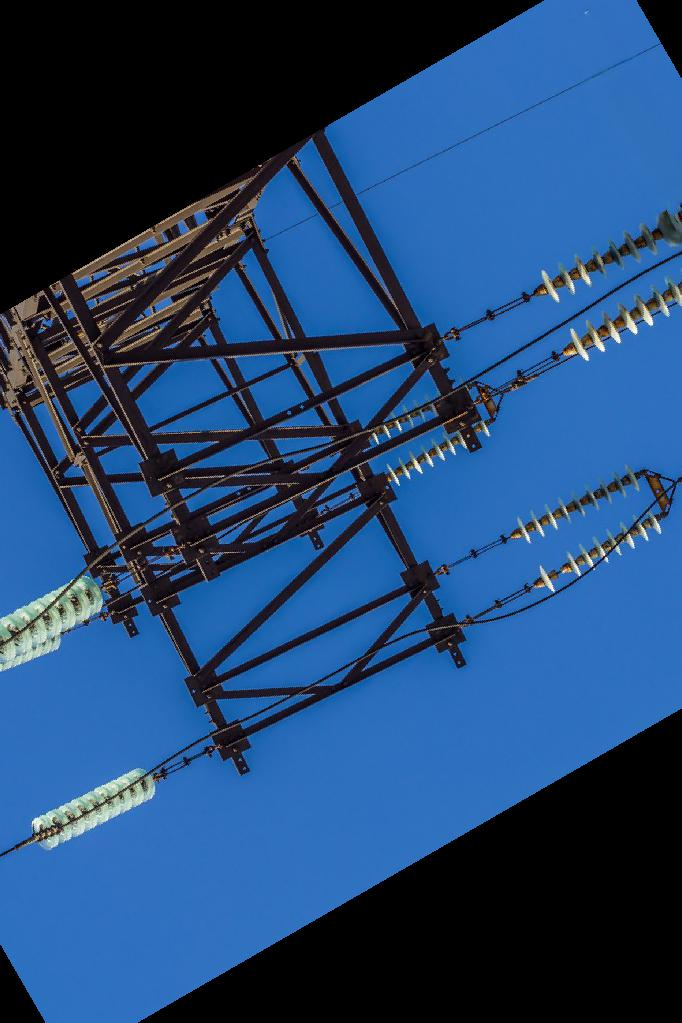insulator: (534, 207, 682, 306), (23, 761, 168, 859), (1, 570, 113, 678), (533, 508, 665, 596), (511, 459, 641, 546), (562, 275, 682, 366), (383, 414, 494, 490)
insulator_stringdrop: (534, 548, 584, 597)
